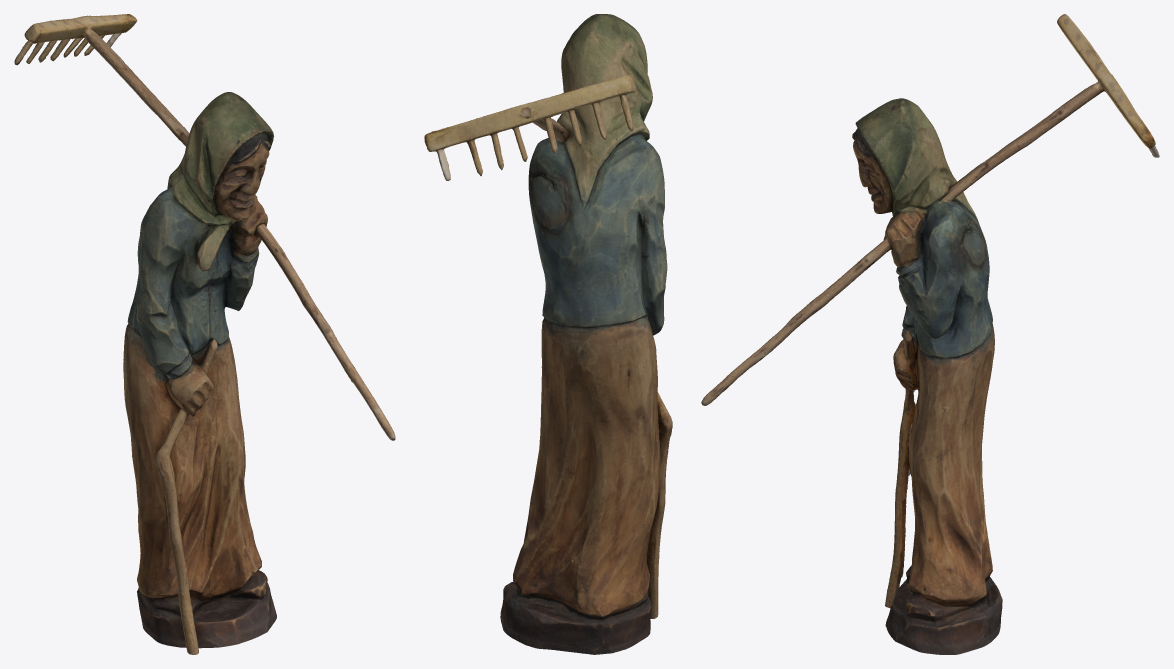
File: MPLW_E_1491_lowpoly.glb
3 renders of one model, left to right at view 1: azimuth 30°, elevation 25°; view 2: azimuth 150°, elevation 25°; view 3: azimuth 270°, elevation 25°, orthographic. The views are drawn at different scales.
Visible parts, largest first — view 1: MPLW_E_1491_lowpoly; view 2: MPLW_E_1491_lowpoly; view 3: MPLW_E_1491_lowpoly.
Part boxes in pixels (x1,y1,x2,y2): MPLW_E_1491_lowpoly: (14, 14, 395, 654); MPLW_E_1491_lowpoly: (424, 14, 672, 654); MPLW_E_1491_lowpoly: (701, 14, 1159, 654).
Size of the model in its own units: 0.115 by 0.3412 by 0.2536.
Materials: 1 (1 with a texture image).
